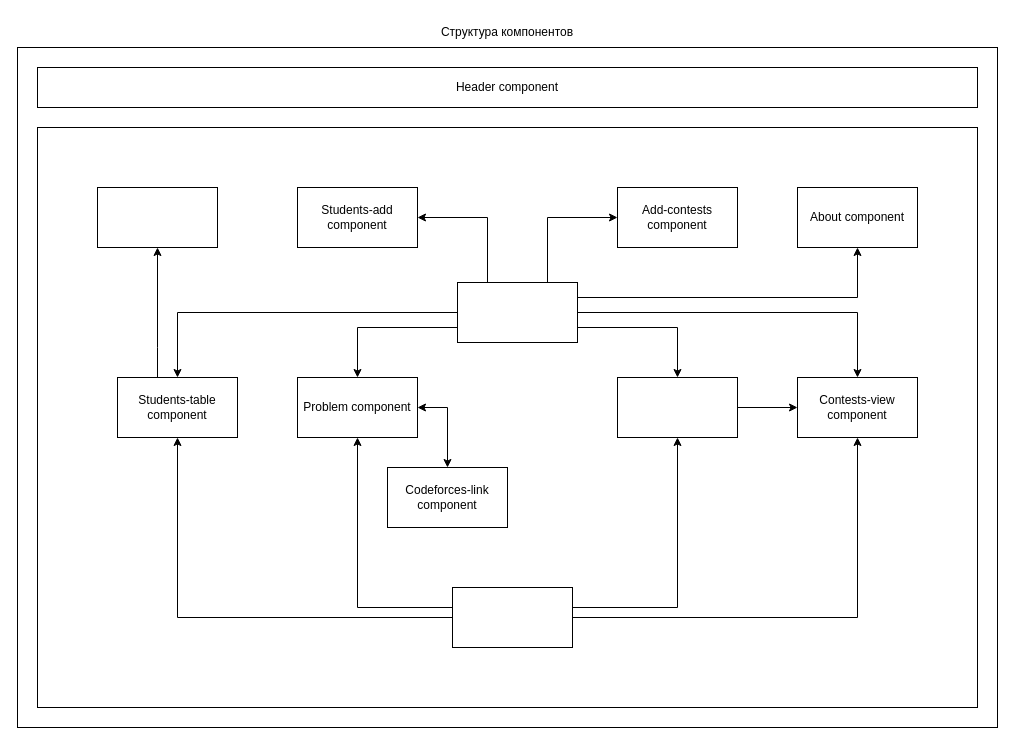
Some shapes in this 1015 by 745 pixel diagram are drawn without their labels. The centre of each missing label's shape, as x and y in pixels:
"Contests component" goes at point (677, 407).
"Home component" goes at point (517, 312).
"Student-view component" goes at point (157, 217).
"Table-template component" goes at point (512, 617).
